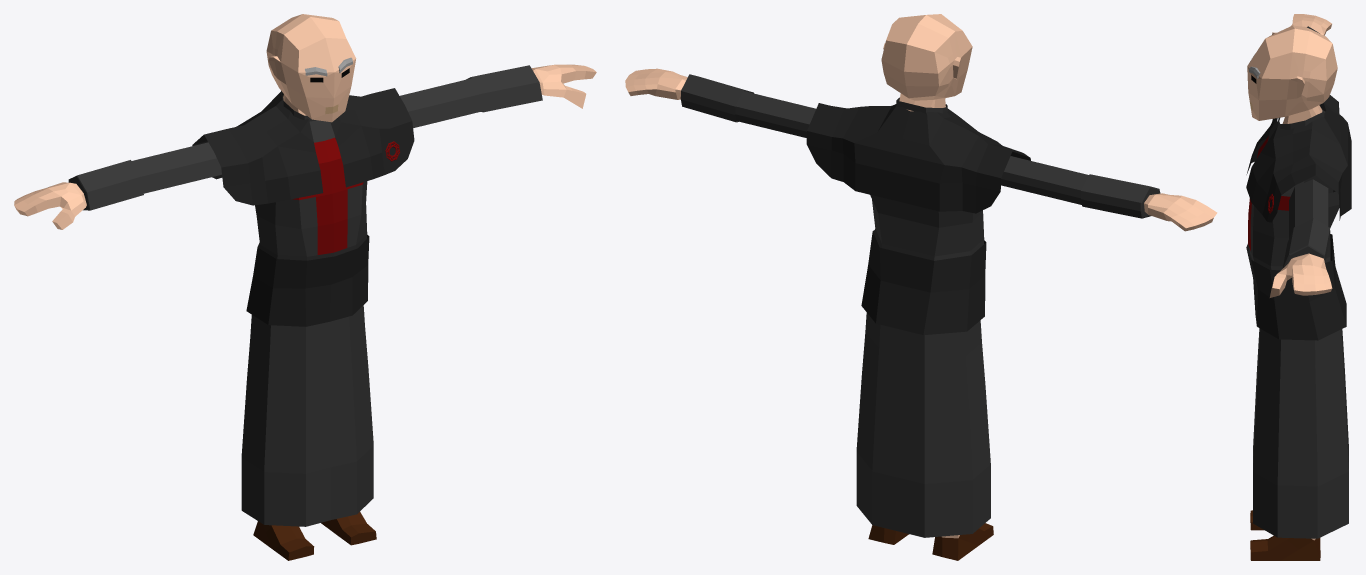
File: NPC_Cura_2.fbx
3 views of the same model, side by side, from view 1: azimuth 30°, elevation 25°; view 2: azimuth 150°, elevation 25°; view 3: azimuth 270°, elevation 25° (orthographic). The views are drawn at different scales.
Parts seen in each view (by area): view 1: Cabeza_2; view 2: Cabeza_2; view 3: Cabeza_2.
Part boxes in pixels (x1,y1,x2,y2): Cabeza_2: (14,14,596,560); Cabeza_2: (625,14,1217,560); Cabeza_2: (1246,14,1351,560).
Size of the model in its own units: 215 by 185 by 34.56.
